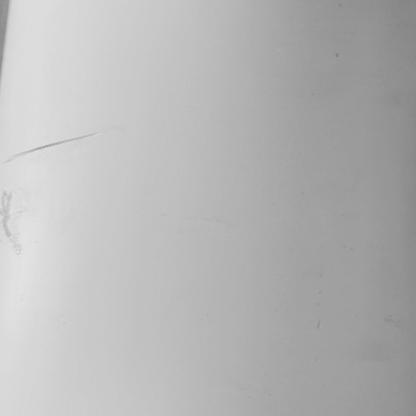sunshang: (1, 130, 106, 164), (1, 191, 33, 258)
